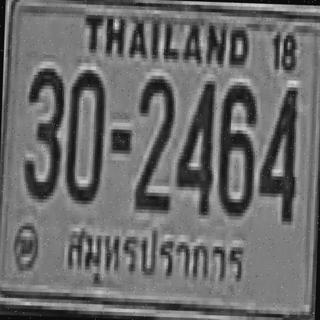N00: (64, 65, 106, 201)
N02: (134, 71, 174, 210)
N03: (22, 64, 63, 196)
N04: (256, 81, 298, 220), (174, 74, 215, 210)
N06: (216, 81, 256, 213)
P57: (58, 215, 255, 306)
